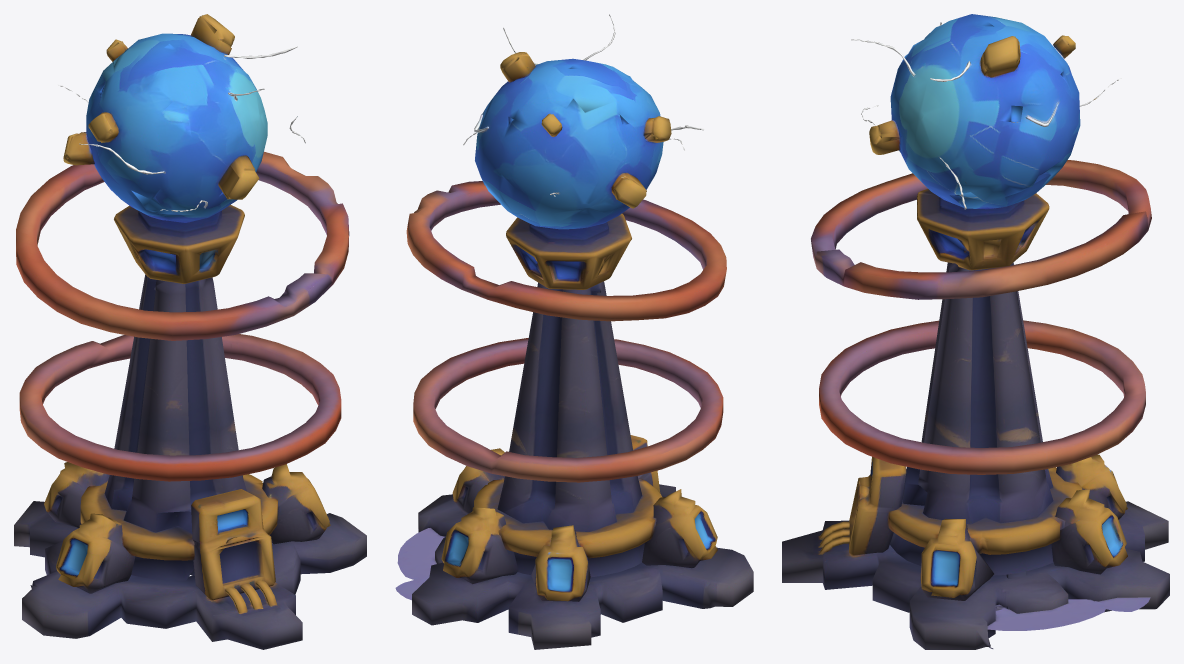
The picture shows the model from 3 angles, left to right: view 1: azimuth 30°, elevation 25°; view 2: azimuth 150°, elevation 25°; view 3: azimuth 270°, elevation 25°; orthographic projection. The views are drawn at different scales.
Parts seen in each view (by area): view 1: tripo_node_b59928da-6edc-4c70-b6f3-5a20a1c050f5; view 2: tripo_node_b59928da-6edc-4c70-b6f3-5a20a1c050f5; view 3: tripo_node_b59928da-6edc-4c70-b6f3-5a20a1c050f5.
Boxes of the visible parts, box(x1,y1,x2,y2) form: tripo_node_b59928da-6edc-4c70-b6f3-5a20a1c050f5: box(14, 14, 366, 649); tripo_node_b59928da-6edc-4c70-b6f3-5a20a1c050f5: box(395, 14, 753, 649); tripo_node_b59928da-6edc-4c70-b6f3-5a20a1c050f5: box(782, 14, 1169, 649).
Size of the model in its own units: 0.627 by 0.998 by 0.6348.
1 material, 1 textured.
